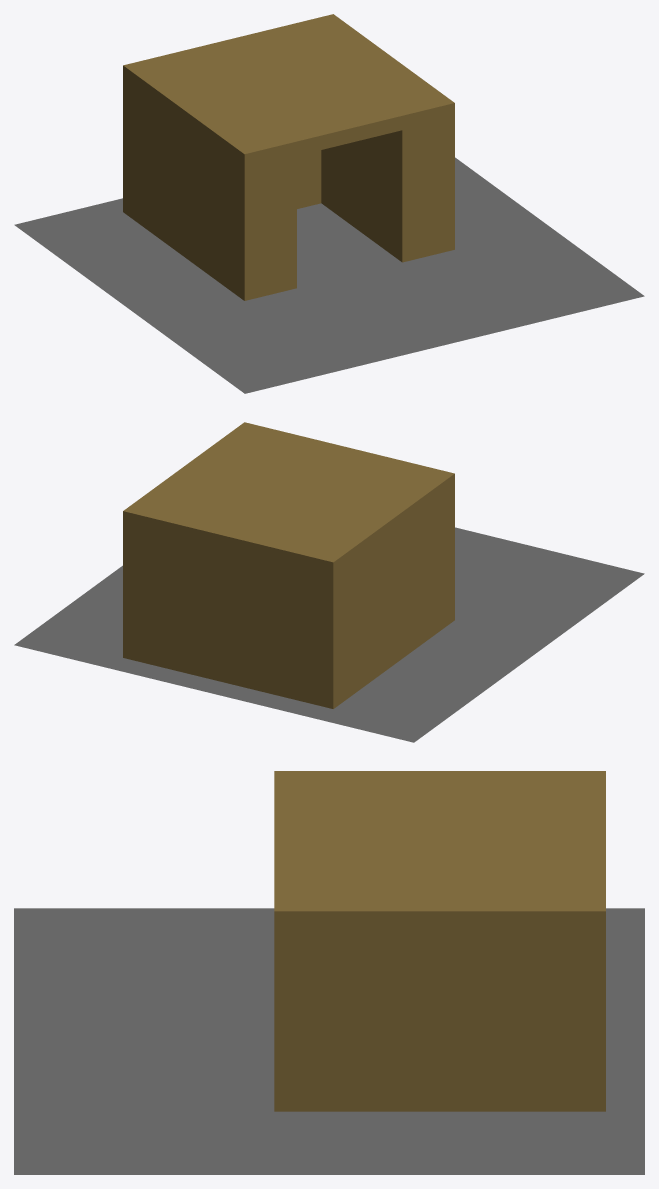
Rendered from mine.glb.
3 views of the same model, one above another, from view 1: azimuth 30°, elevation 25°; view 2: azimuth 150°, elevation 25°; view 3: azimuth 270°, elevation 25° (orthographic). The views are drawn at different scales.
Visible parts, largest first — view 1: mine, Plane; view 2: mine, Plane; view 3: mine, Plane.
Boxes of the visible parts, bbox=[...] form: mine: bbox=[123, 14, 454, 300]; Plane: bbox=[14, 157, 644, 393]; mine: bbox=[123, 422, 454, 708]; Plane: bbox=[14, 527, 644, 742]; mine: bbox=[274, 771, 605, 1111]; Plane: bbox=[14, 908, 644, 1174].
Bounding box in the file's own units: 11.41 × 4 × 11.41.
